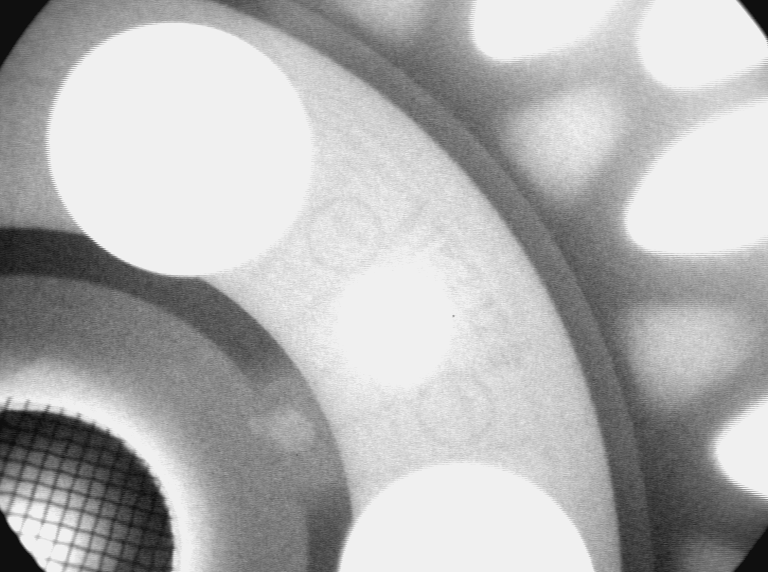defect: (244, 401, 321, 457)
